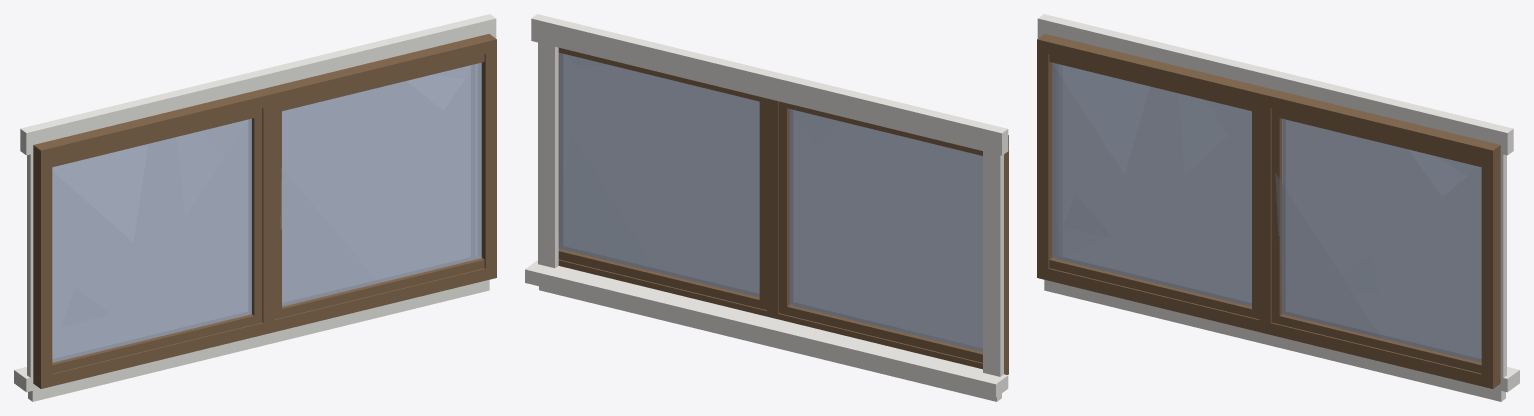
The model's file is Windows.fbx.
The picture shows the model from 3 angles, left to right: view 1: azimuth 30°, elevation 25°; view 2: azimuth 150°, elevation 25°; view 3: azimuth 330°, elevation 25°; orthographic projection.
Visible parts, largest first — view 1: Window_Modular_Closed, Window_Modular_Broken, Window_Modular_Cracked, Window_Moulding; view 2: Window_Modular_Closed, Window_Modular_Cracked, Window_Moulding, Window_Modular_Broken; view 3: Window_Modular_Closed, Window_Modular_Broken, Window_Modular_Cracked, Window_Moulding.
Part boxes in pixels (x1=…): Window_Modular_Closed: x1=52, y1=62, x2=481, y2=362; Window_Modular_Broken: x1=33, y1=34, x2=496, y2=388; Window_Modular_Cracked: x1=52, y1=63, x2=481, y2=361; Window_Moulding: x1=14, y1=14, x2=496, y2=401; Window_Modular_Closed: x1=559, y1=53, x2=982, y2=351; Window_Modular_Cracked: x1=559, y1=53, x2=982, y2=347; Window_Moulding: x1=525, y1=14, x2=1008, y2=401; Window_Modular_Broken: x1=558, y1=47, x2=1008, y2=374; Window_Modular_Closed: x1=1052, y1=63, x2=1481, y2=361; Window_Modular_Broken: x1=1037, y1=34, x2=1500, y2=388; Window_Modular_Cracked: x1=1052, y1=63, x2=1481, y2=359; Window_Moulding: x1=1037, y1=14, x2=1519, y2=401.
Bounding box in the file's own units: 2.06 × 1.13 × 0.1706.
